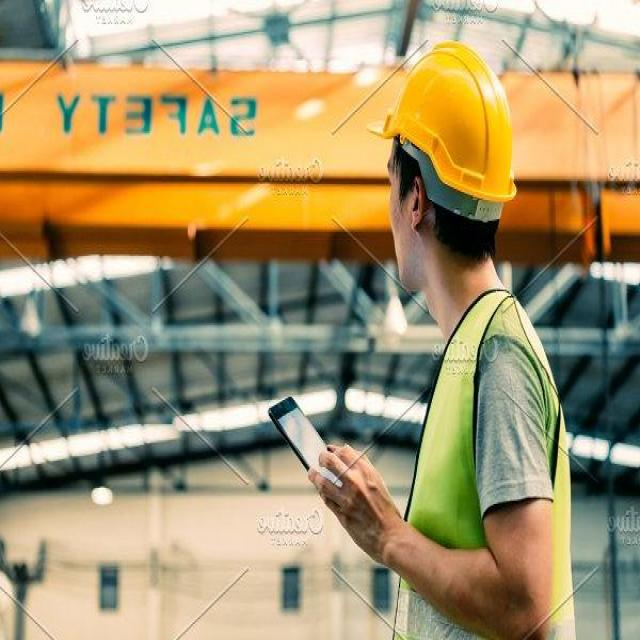Reflective-Jacket: (386, 282, 580, 638)
Safety-Helmet: (370, 37, 520, 208)
